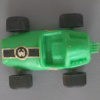verde: (3, 16, 96, 88)
